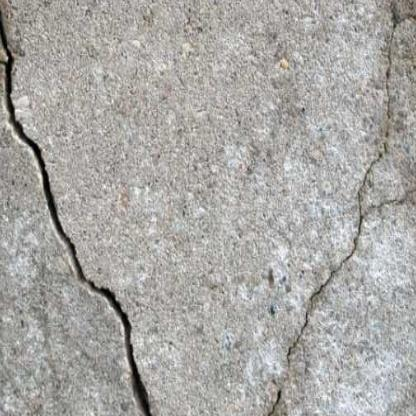Cracks: (0, 0, 163, 416), (284, 139, 401, 371), (382, 6, 409, 124), (260, 386, 286, 416)
